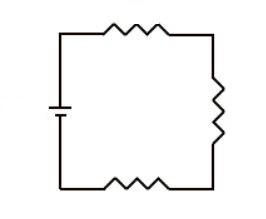resistor: (195, 63, 235, 156), (88, 15, 181, 52), (91, 165, 174, 198)
